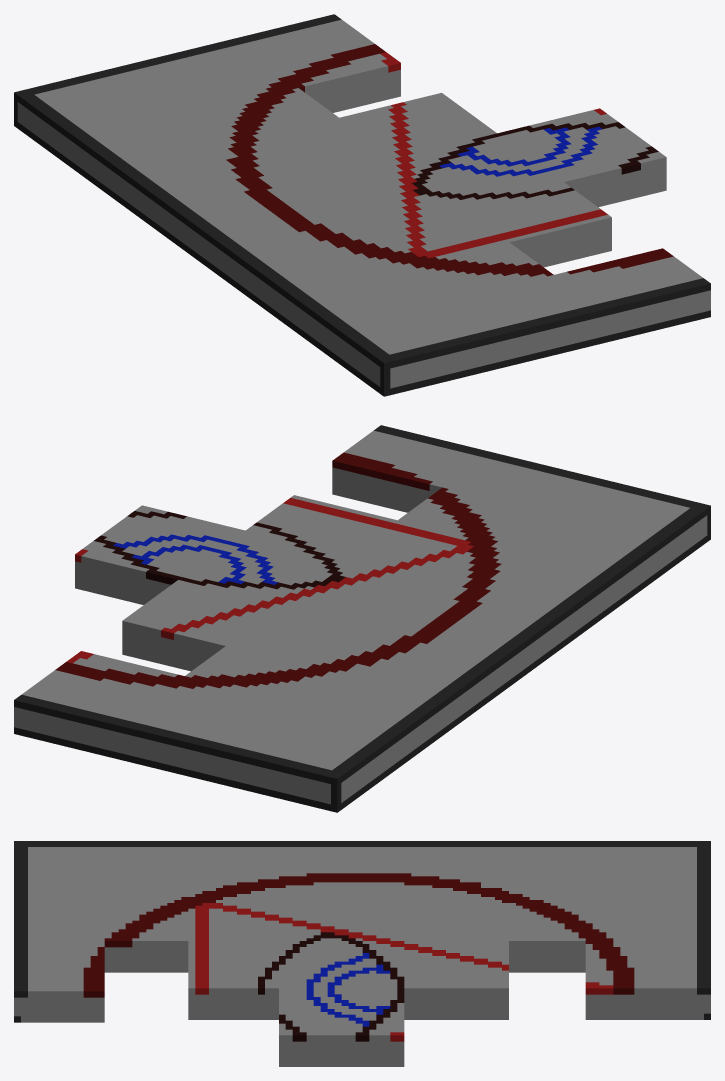
The model's file is MassonEyeDor-0.obj.
3 renders of one model, top to bottom at view 1: azimuth 30°, elevation 25°; view 2: azimuth 150°, elevation 25°; view 3: azimuth 270°, elevation 25°, orthographic. The views are drawn at different scales.
Bounding box in the file's own units: 6.6 × 0.5 × 10.
Materials: 1 (1 with a texture image).
